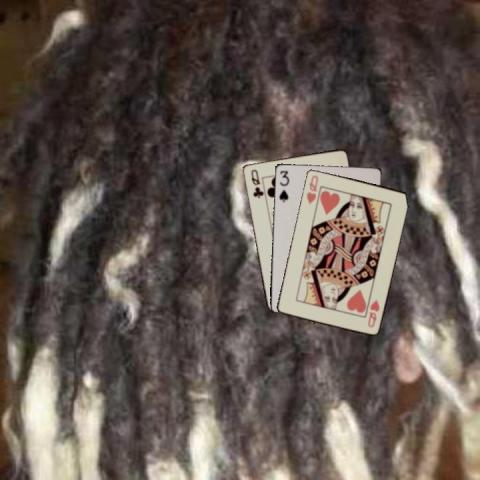3s: (276, 167, 290, 203)
Qc: (248, 166, 264, 199)
Qh: (303, 172, 320, 205), (364, 296, 380, 329)
